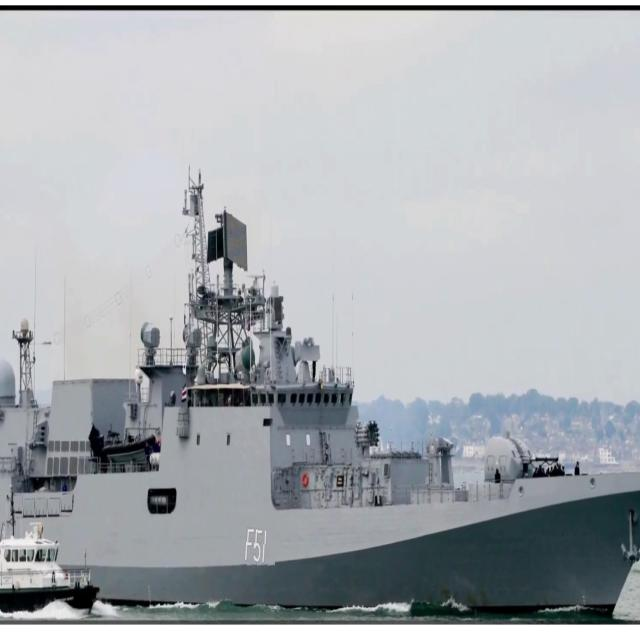OCR: (242, 519, 276, 572)
